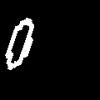chain: (5, 18, 33, 69)
